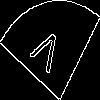V: (25, 25, 64, 83)
